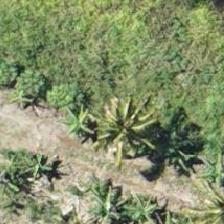coconut_tree: (84, 83, 174, 173)
